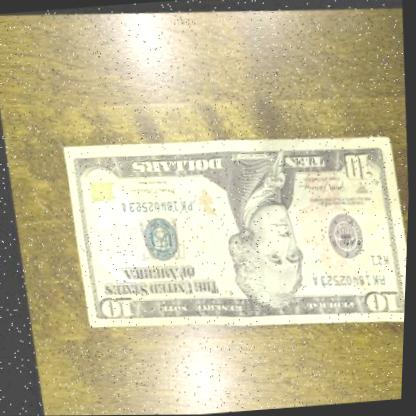ten-front: (53, 115, 413, 344)
